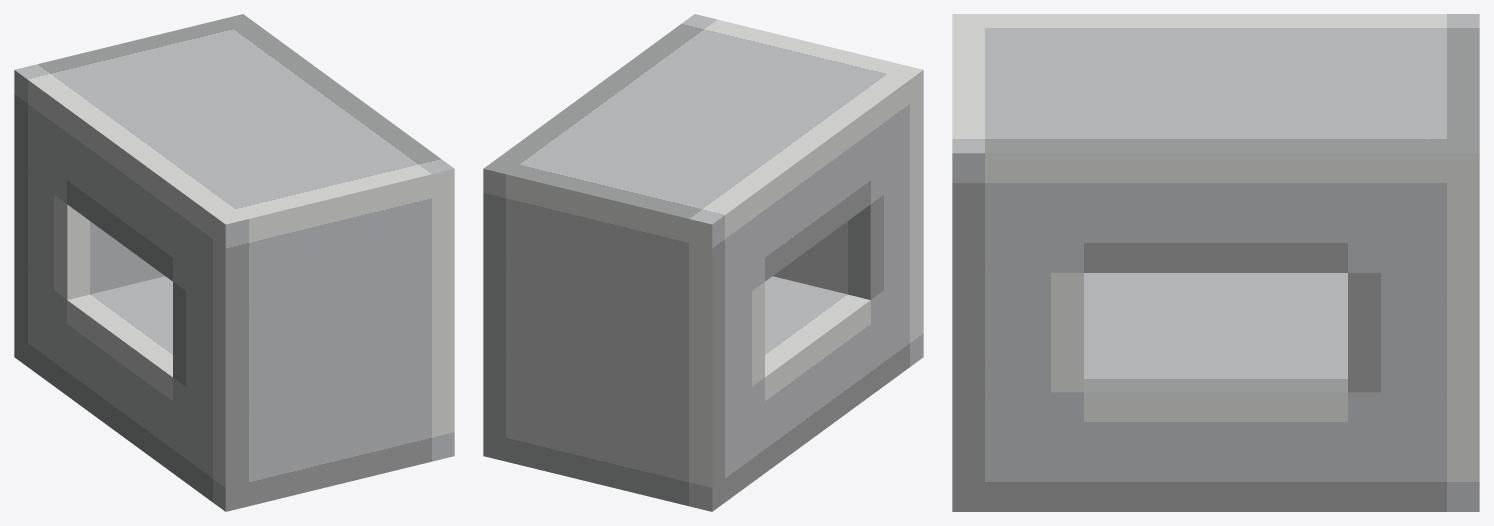
Rendered from table.fbx.
3 renders of one model, left to right at view 1: azimuth 30°, elevation 25°; view 2: azimuth 150°, elevation 25°; view 3: azimuth 270°, elevation 25°, orthographic. The views are drawn at different scales.
Parts seen in each view (by area): view 1: cube_1, cube, cube_3, cube_2; view 2: cube_1, cube, cube_2, cube_3; view 3: cube_1, cube, cube_2, cube_3.
Part boxes in pixels (left/top/right/bottom): cube_1: left=14, top=14, right=454, bottom=320; cube: left=14, top=261, right=454, bottom=511; cube_3: left=173, top=264, right=454, bottom=415; cube_2: left=14, top=166, right=164, bottom=299; cube_1: left=483, top=14, right=923, bottom=320; cube: left=483, top=261, right=923, bottom=511; cube_2: left=483, top=264, right=764, bottom=415; cube_3: left=773, top=166, right=923, bottom=299; cube_1: left=952, top=14, right=1479, bottom=272; cube: left=952, top=273, right=1479, bottom=511; cube_2: left=1348, top=273, right=1479, bottom=392; cube_3: left=952, top=273, right=1083, bottom=392.
Size of the model in its own units: 62.5 by 75 by 100.
Materials: 1 (1 with a texture image).
